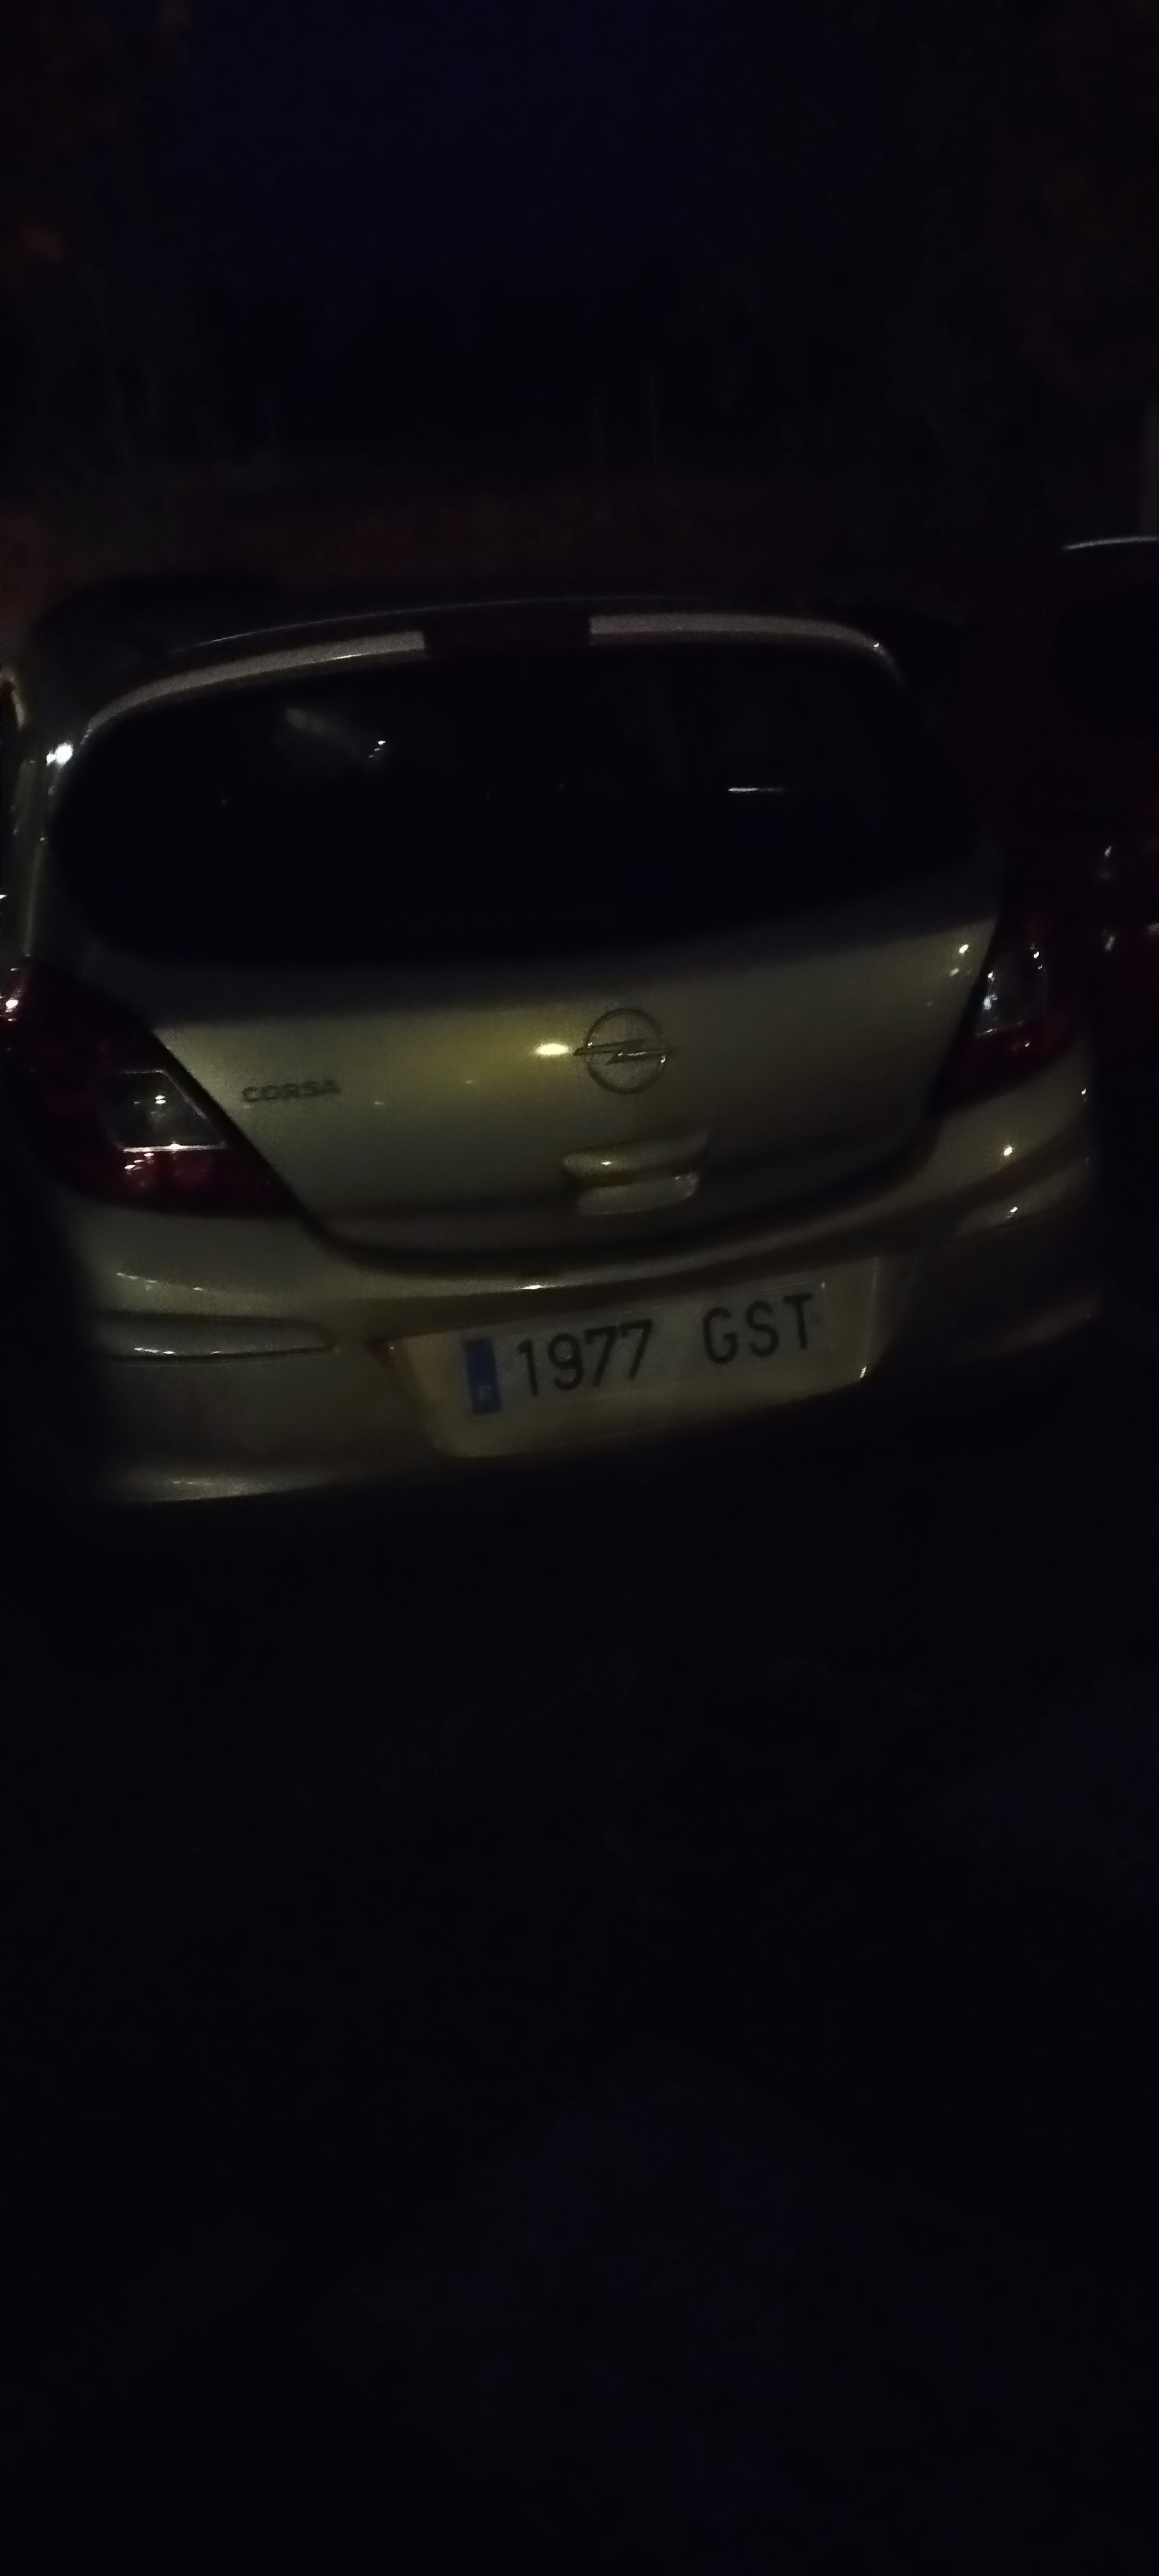Car: (0, 619, 1123, 1506)
Plate: (455, 1342, 855, 1426)
